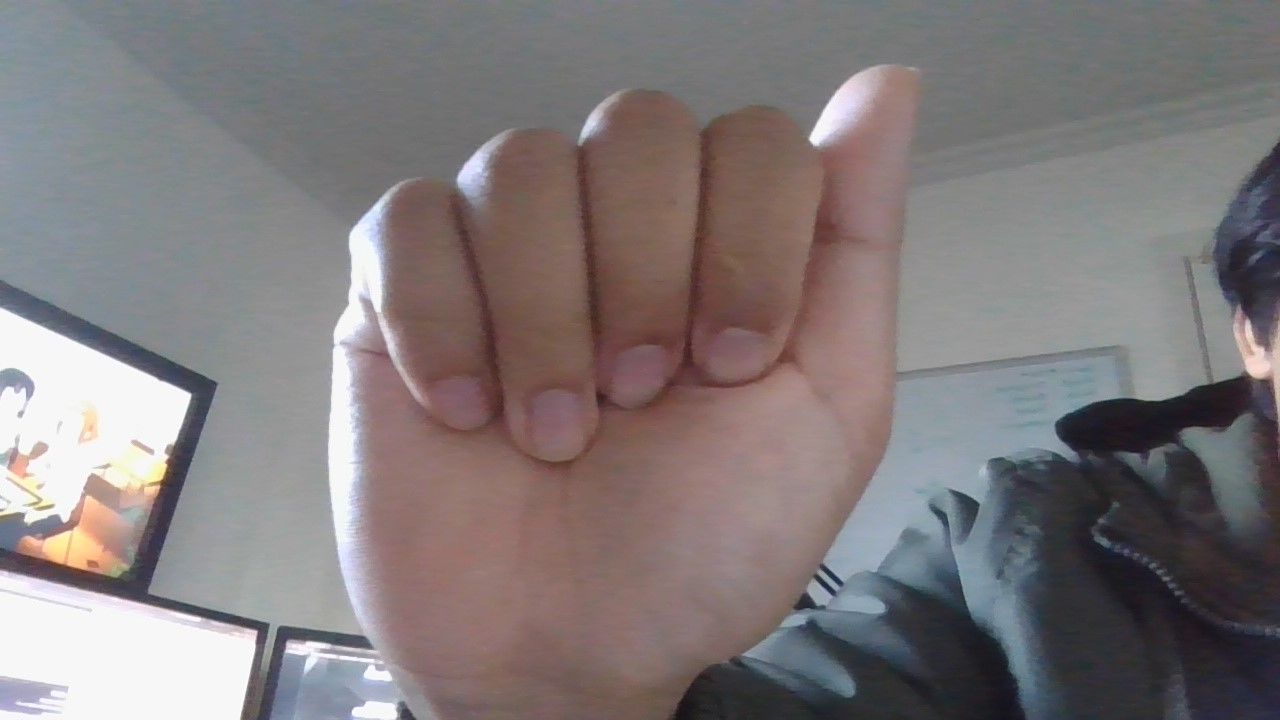a: (273, 41, 956, 702)
